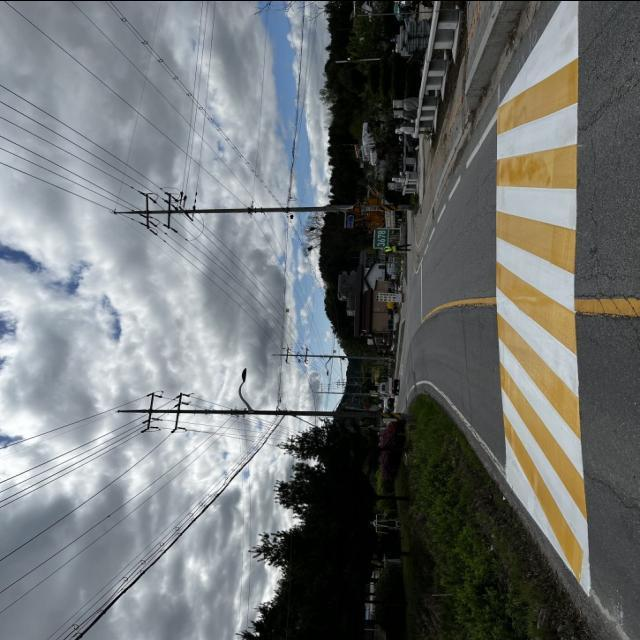speedbreaker: (492, 0, 594, 579)
